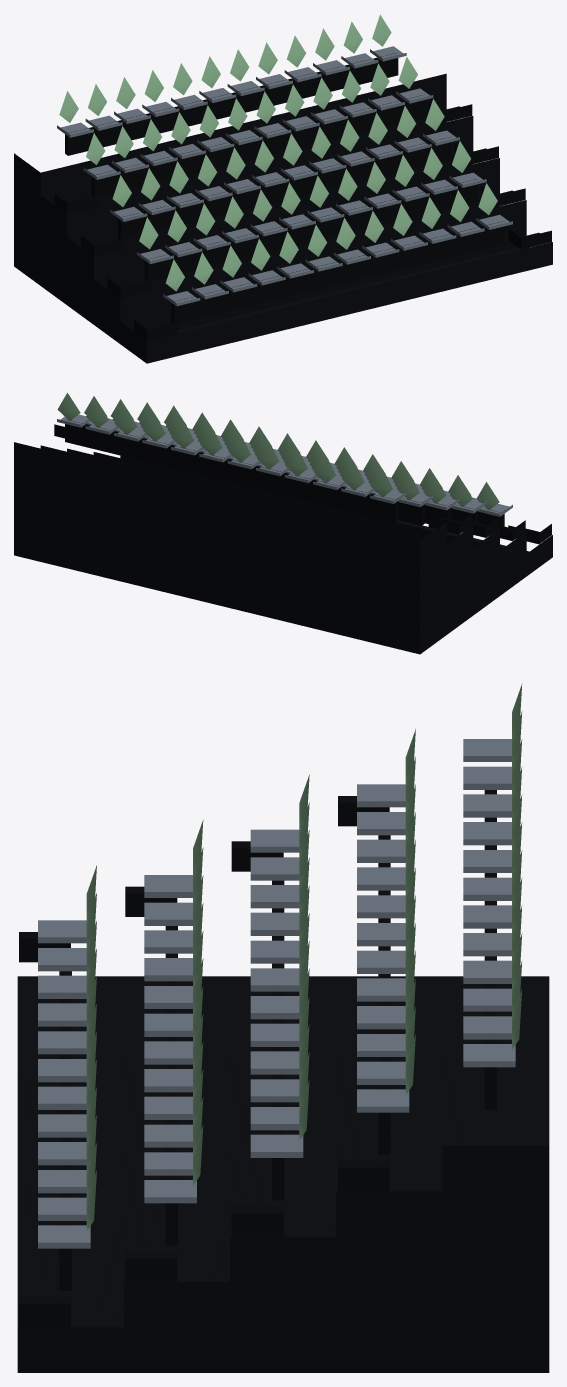
3 renders of one model, top to bottom at view 1: azimuth 30°, elevation 25°; view 2: azimuth 150°, elevation 25°; view 3: azimuth 270°, elevation 25°, orthographic. The views are drawn at different scales.
Parts seen in each view (by area): view 1: Tier_Concrete, Seat_Beams, Seat_Backs, Seat_Pans, Aisle_Steps; view 2: Tier_Concrete, Seat_Backs, Seat_Beams, Seat_Pans, Aisle_Steps; view 3: Tier_Concrete, Seat_Pans, Seat_Backs, Aisle_Steps, Seat_Beams.
Part boxes in pixels (x1,y1,x2,y2): Tier_Concrete: (14, 73, 552, 363); Seat_Beams: (65, 52, 504, 323); Seat_Backs: (59, 14, 497, 291); Seat_Pans: (57, 46, 512, 306); Aisle_Steps: (54, 102, 551, 340); Tier_Concrete: (14, 442, 552, 654); Seat_Backs: (57, 393, 499, 510); Seat_Beams: (65, 419, 504, 526); Seat_Pans: (57, 414, 512, 516); Aisle_Steps: (54, 424, 551, 544); Tier_Concrete: (17, 976, 549, 1372); Seat_Pans: (38, 739, 515, 1248); Seat_Backs: (86, 683, 522, 1230); Aisle_Steps: (19, 796, 389, 1327); Seat_Beams: (59, 790, 496, 1290).
Bounding box in the file's own units: 7.5 × 2.99 × 4.25.
4 materials, 3 textured.
